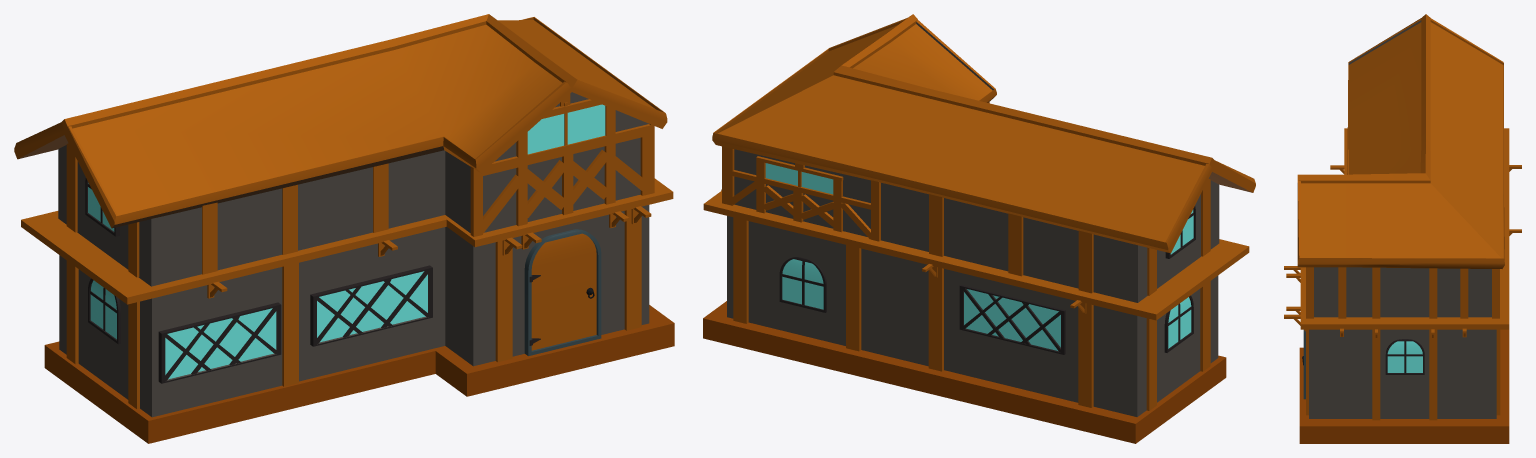
The model's file is house1(tudor).fbx.
3 views of the same model, side by side, from view 1: azimuth 30°, elevation 25°; view 2: azimuth 150°, elevation 25°; view 3: azimuth 270°, elevation 25° (orthographic). The views are drawn at different scales.
Visible parts, largest first — view 1: Cube.038; view 2: Cube.038; view 3: Cube.038.
Part boxes in pixels (x1=…): Cube.038: x1=14, y1=14, x2=674, y2=443; Cube.038: x1=703, y1=14, x2=1255, y2=443; Cube.038: x1=1284, y1=14, x2=1521, y2=443.
Bounding box in the file's own units: 1470 × 780 × 727.
